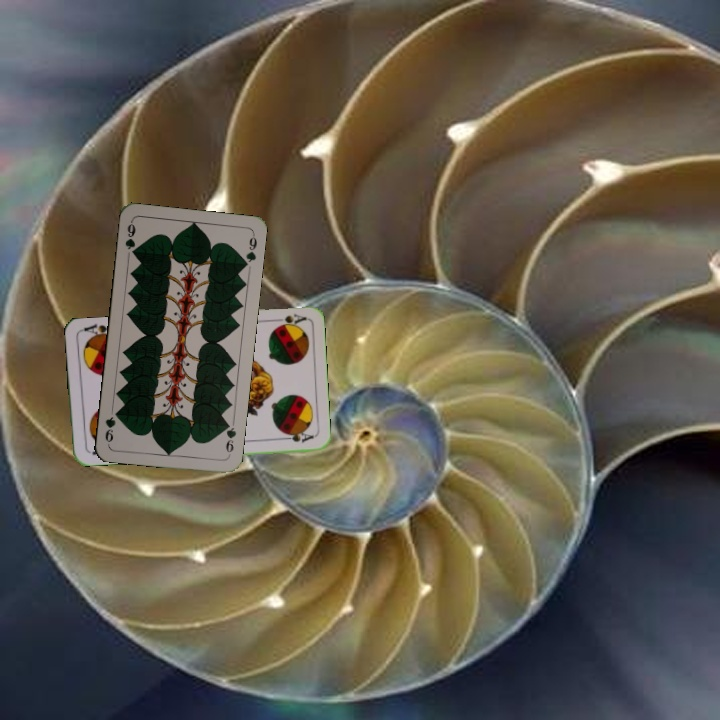G9: (121, 217, 139, 259), (221, 417, 239, 458)
SA: (267, 309, 308, 330)
